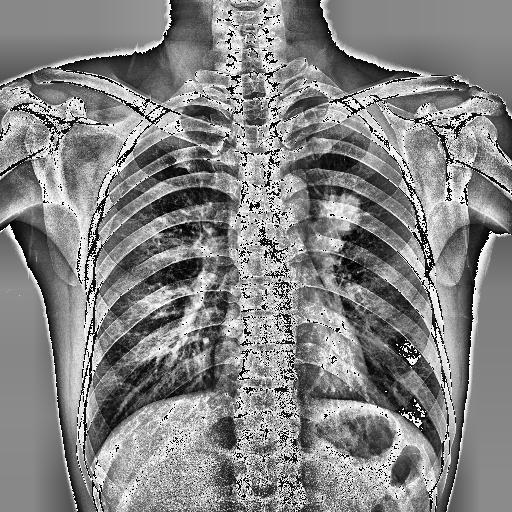7- Lung Opacity: (312, 194, 364, 232)
8- Nodule-Mass: (312, 194, 364, 232), (316, 192, 361, 230), (320, 194, 360, 234), (302, 224, 340, 256)
9- Other lesion: (302, 224, 340, 256)
